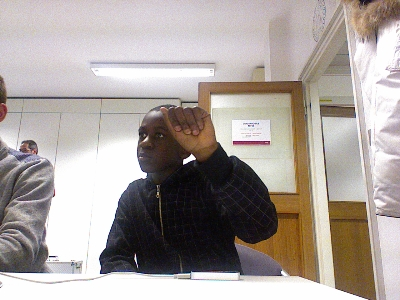石头: (158, 104, 216, 155)
